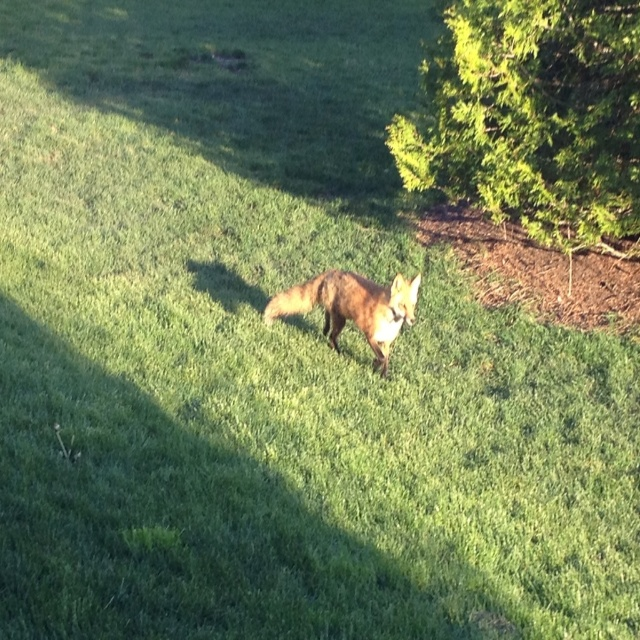Fox: (262, 267, 422, 379)
